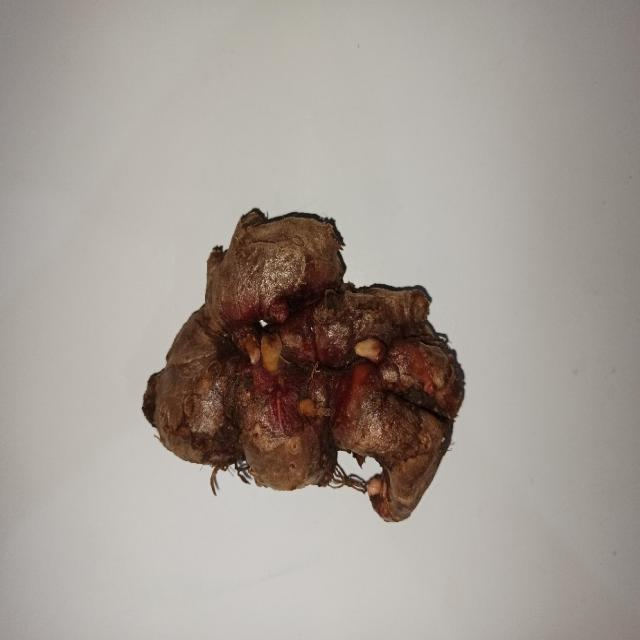ginger: (146, 216, 465, 490)
